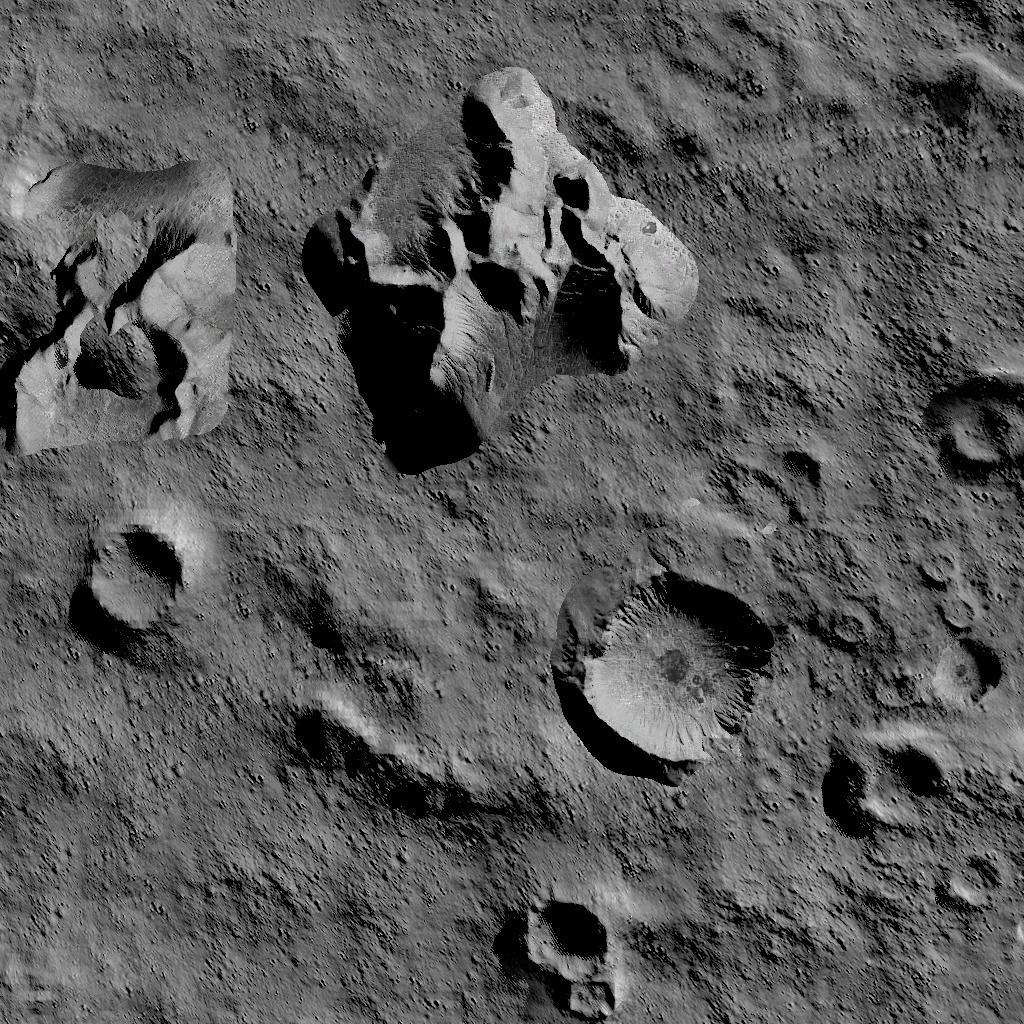Boulders: (304, 68, 698, 478), (0, 155, 236, 453), (288, 692, 566, 836), (893, 2, 1024, 132)
Crater: (576, 570, 773, 765), (824, 720, 968, 833), (516, 900, 623, 1024), (84, 522, 190, 636), (926, 372, 1024, 482)
Plan surface: (0, 648, 276, 1024), (0, 0, 291, 143), (293, 850, 503, 1024)
